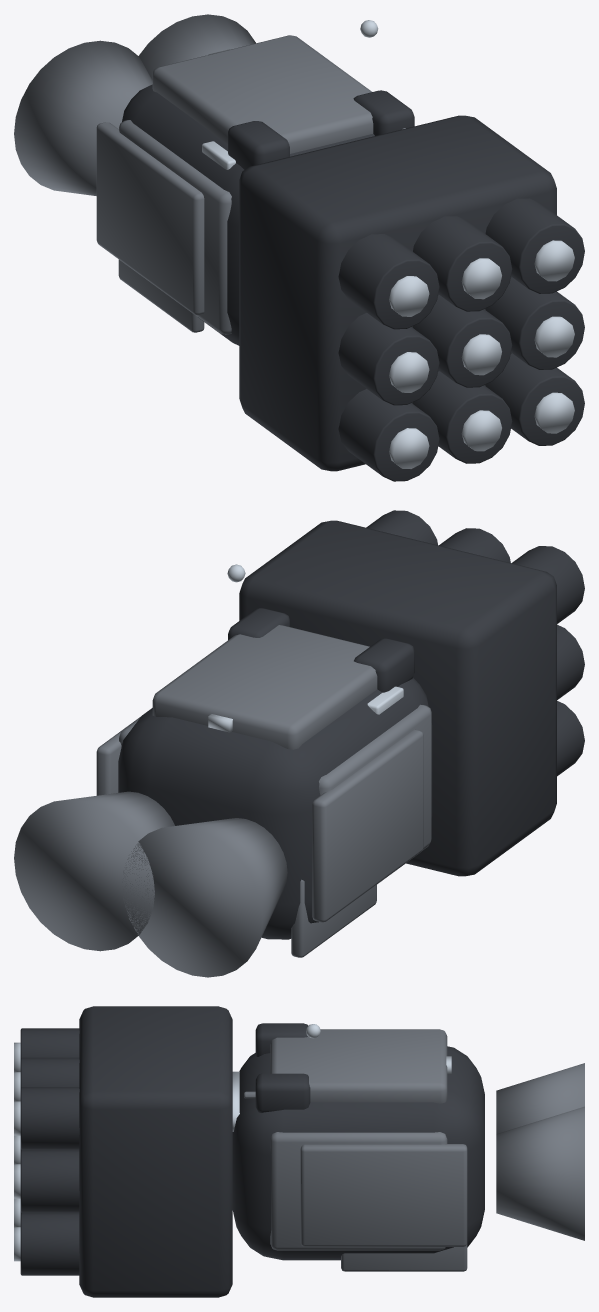
Rendered from weapon_drone_artillery.glb.
3 views of the same model, one above another, from view 1: azimuth 30°, elevation 25°; view 2: azimuth 150°, elevation 25°; view 3: azimuth 270°, elevation 25° (orthographic). The views are drawn at different scales.
Parts seen in each view (by area): view 1: weapon_drone_artillery; view 2: weapon_drone_artillery; view 3: weapon_drone_artillery.
Boxes of the visible parts, x1=… form: weapon_drone_artillery: x1=14, y1=14, x2=584, y2=481; weapon_drone_artillery: x1=14, y1=510, x2=584, y2=977; weapon_drone_artillery: x1=14, y1=1006, x2=584, y2=1297.
Size of the model in its own units: 0.696 by 0.8318 by 1.67.
